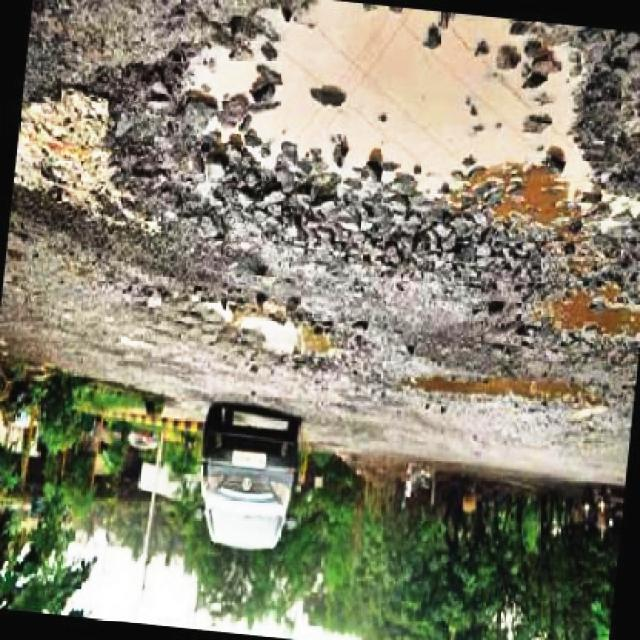pothole: (171, 0, 635, 234), (192, 289, 366, 369), (389, 352, 609, 414), (541, 277, 640, 348)
